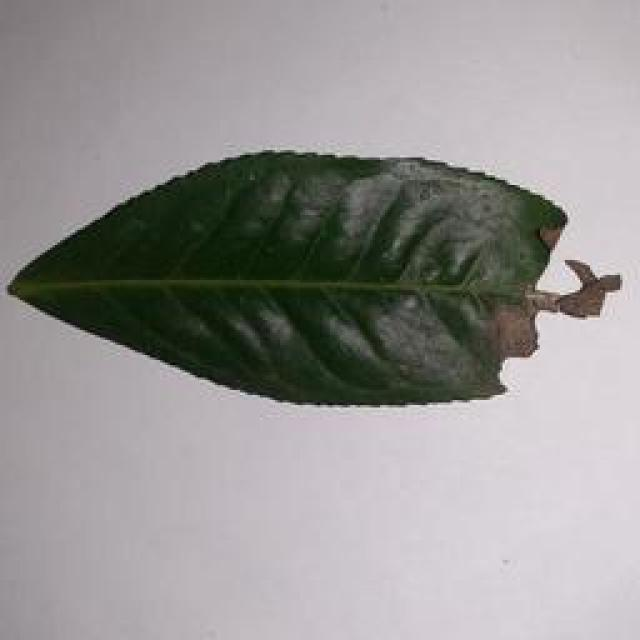Brown Blight: (14, 134, 638, 432)
